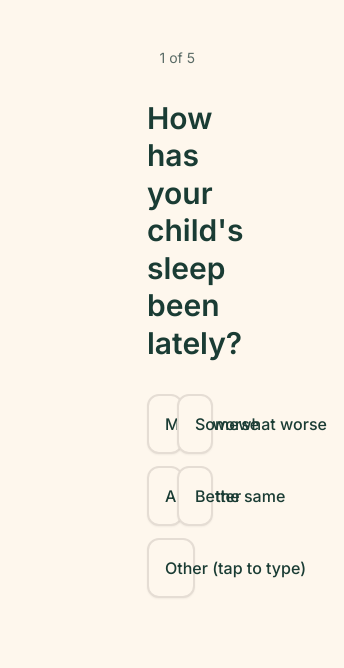
Test: AssessmentCard › Other Text Input › should show text input when 'Other' is clicked
Click the button "Other (tap to type)" at (171, 568), box x1=147 y1=538 x2=195 y2=598
(page scrolled)
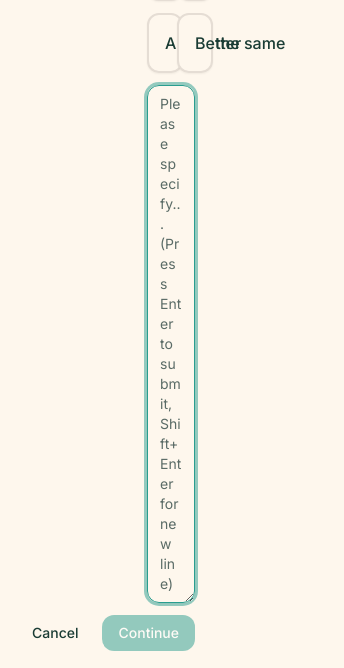
Expected: the text box named "other answer text" is shown, x1=147 y1=84 x2=195 y2=602
Expected: the button "Continue" is shown, x1=102 y1=614 x2=195 y2=650
Expected: the button "Cancel" is shown, x1=16 y1=614 x2=94 y2=650
